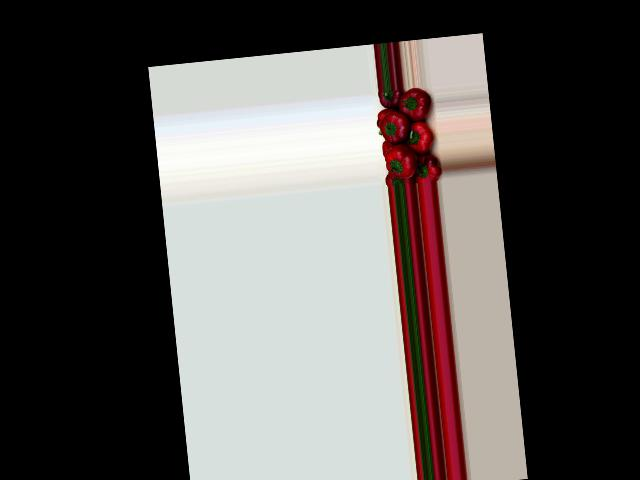bell_pepper: (379, 140, 394, 154)
